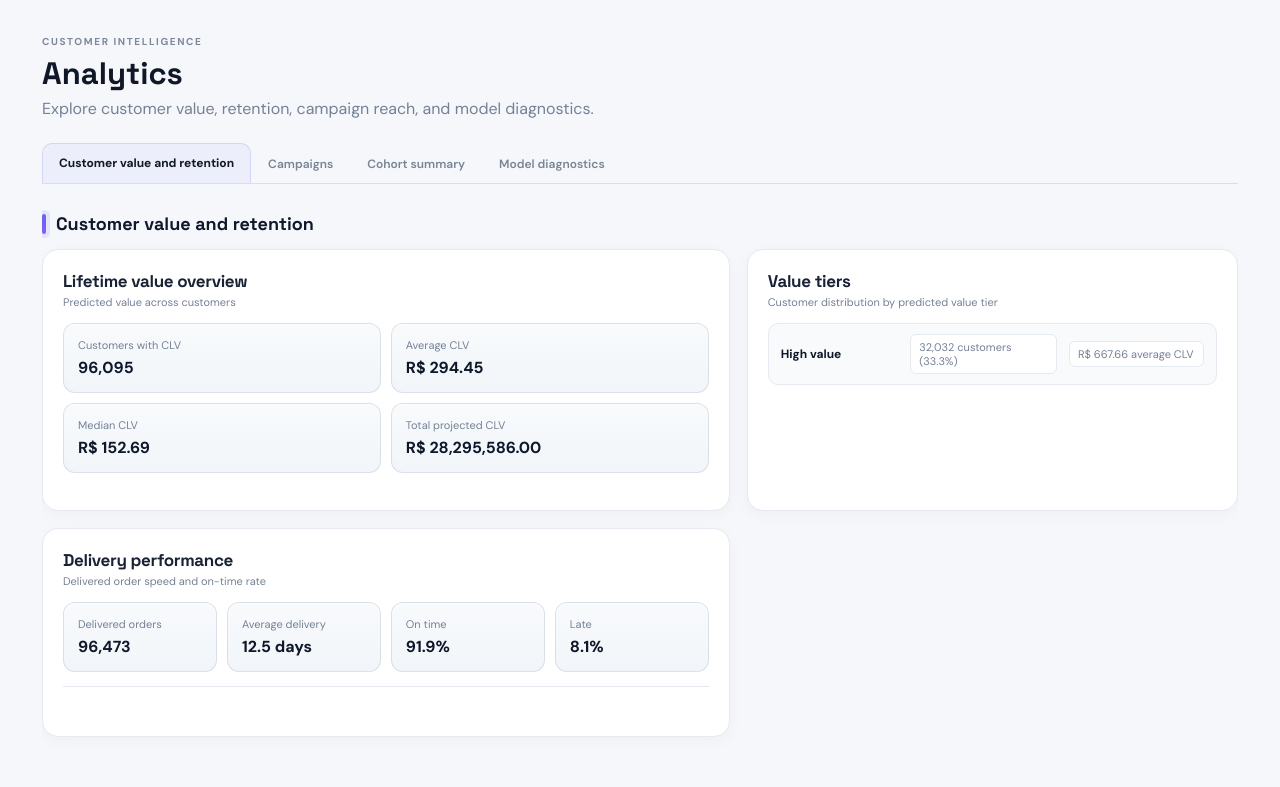
Scenario: Analytics page › renders live analytics sections and their data
expect the text "R$ 294.45" is shown: met, box [406,357,484,378]
expect the text "R$ 28,295,586.00" is shown: met, box [406,437,541,458]
Click the tab "Cohort summary" at (416, 163), box [350,143,482,183]
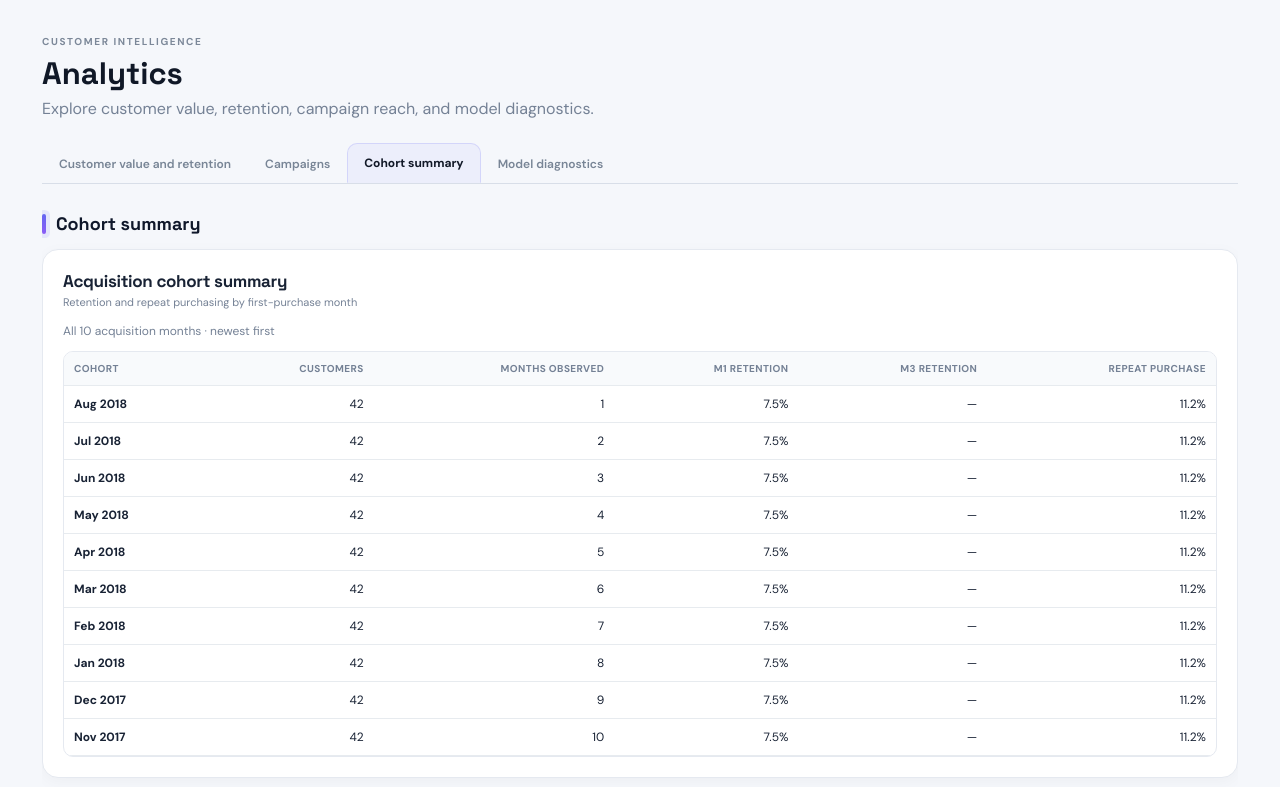
expect the text "Aug 2018" is shown: met, box [74,396,127,412]
expect the text "Nov 2017" is shown: met, box [74,729,126,745]
expect the text "All 10 acquisition months · newest first" is shown: met, box [63,323,275,339]
Click the tab "Customer value and retention" at (145, 163), box [42,143,248,183]
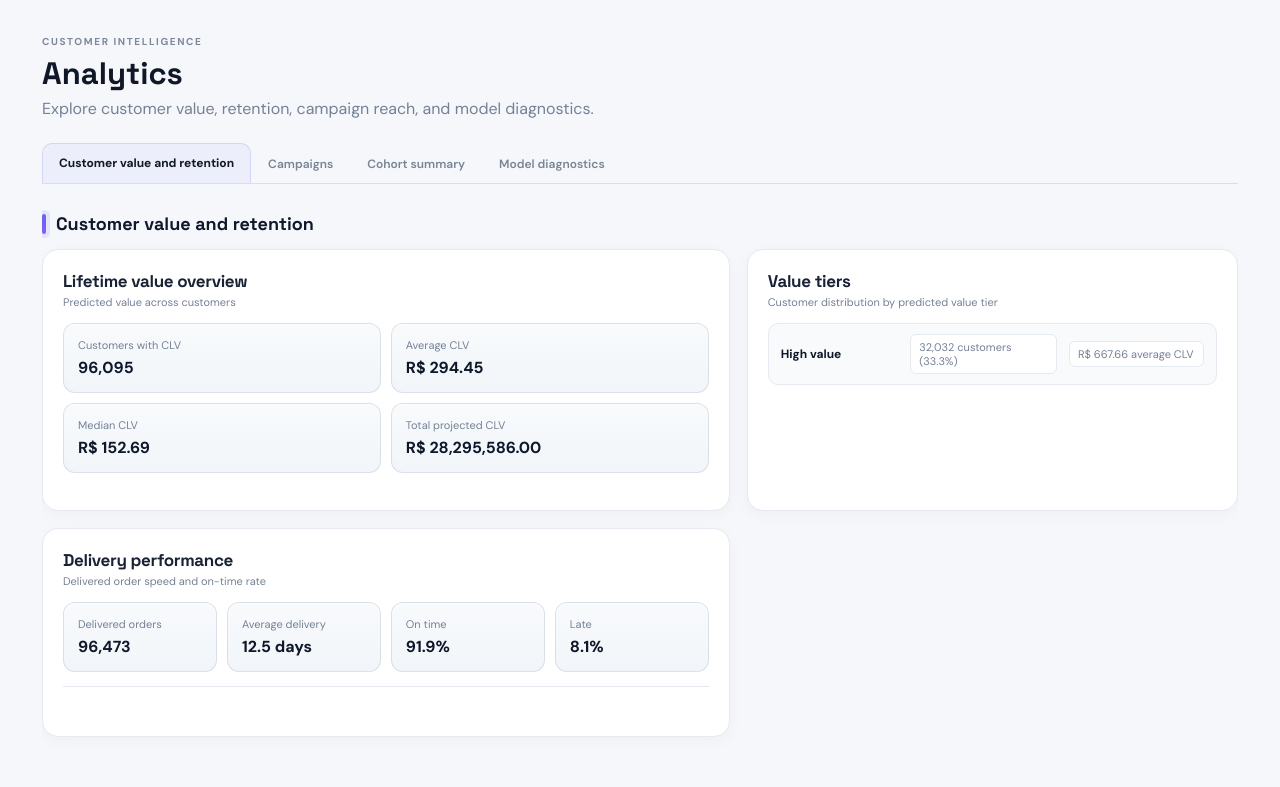
expect the text "12.5 days" is shown: met, box [242,636,312,657]
Click the tab "Campaigns" at (301, 163), box [251,143,350,183]
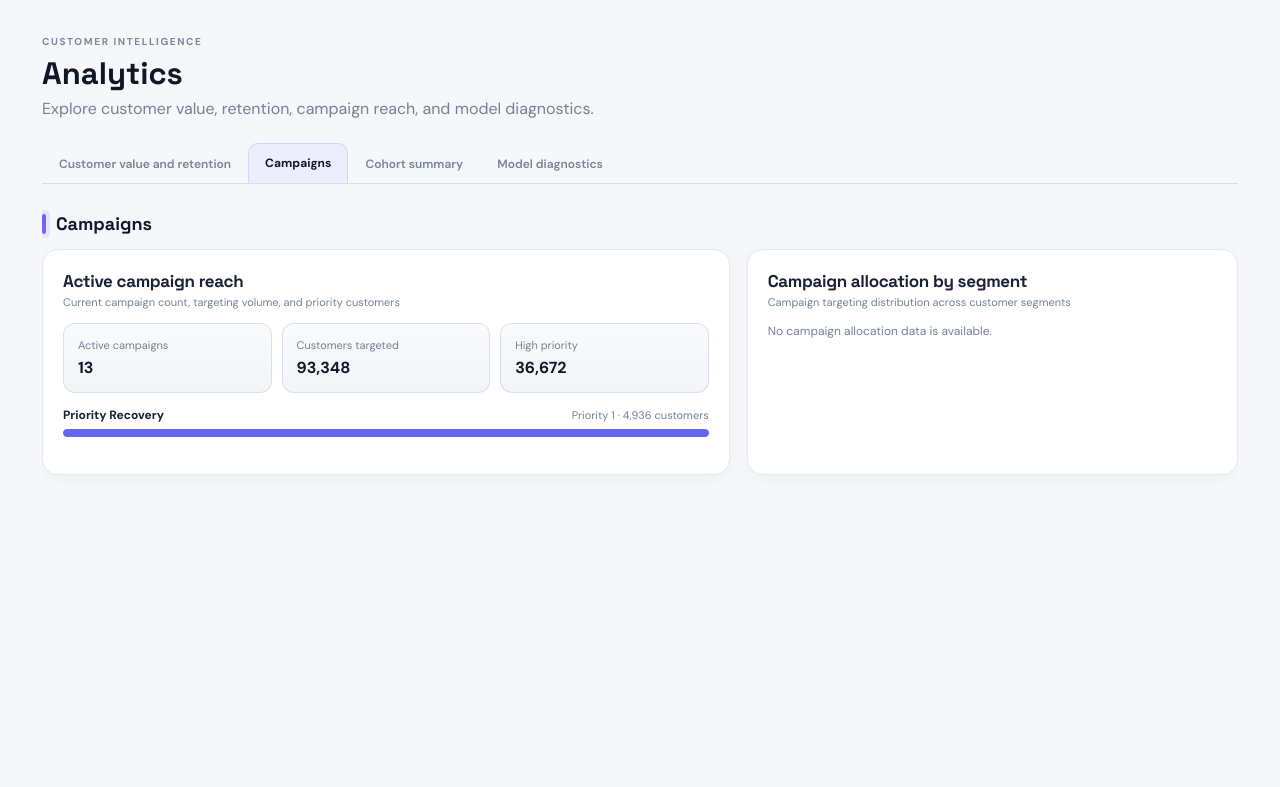
expect the text "Priority Recovery" is shown: met, box [63,407,164,423]
Click the tab "Model diagnostics" at (550, 163), box [480,143,620,183]
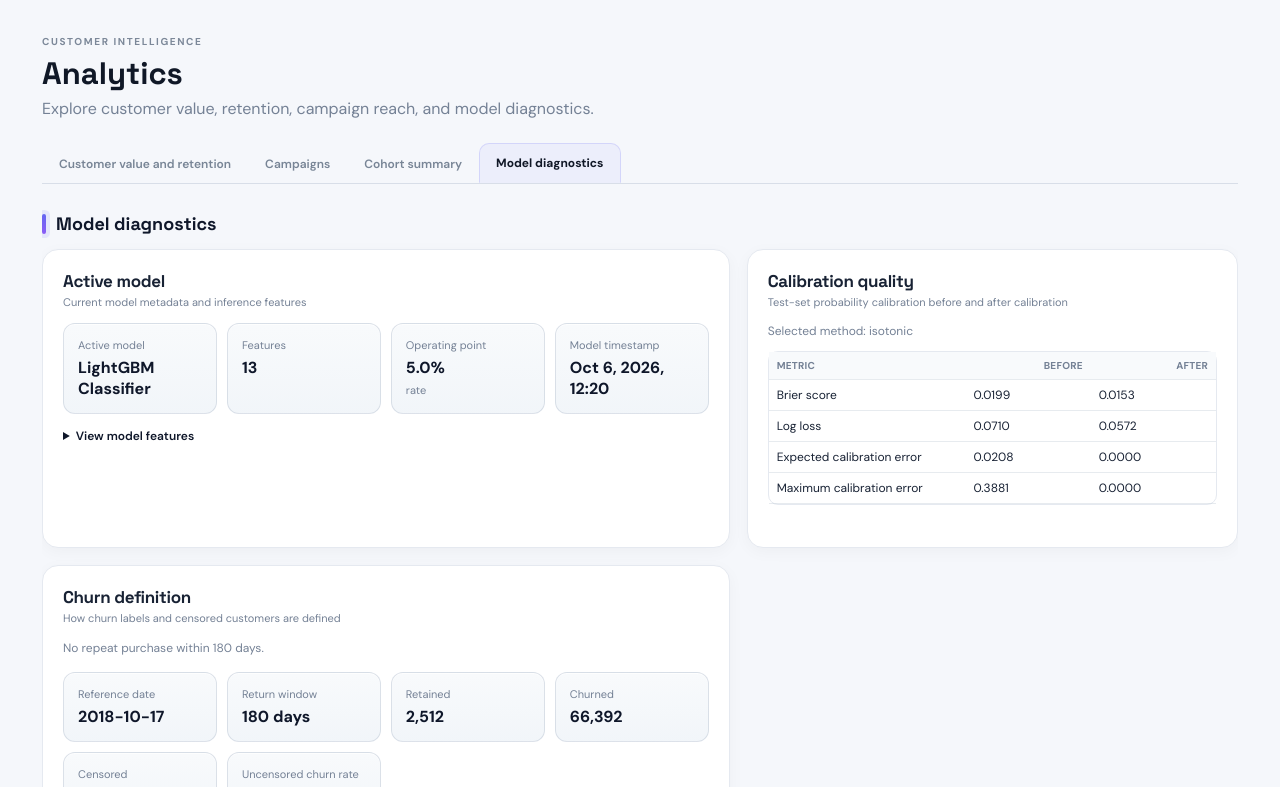
expect the text "LightGBM Classifier" is shown: met, box [78,357,154,399]
expect the text "Oct 6, 2026, 12:20" is shown: met, box [570,357,664,399]
expect the text "Selected method: isotonic" is shown: met, box [768,323,913,339]
